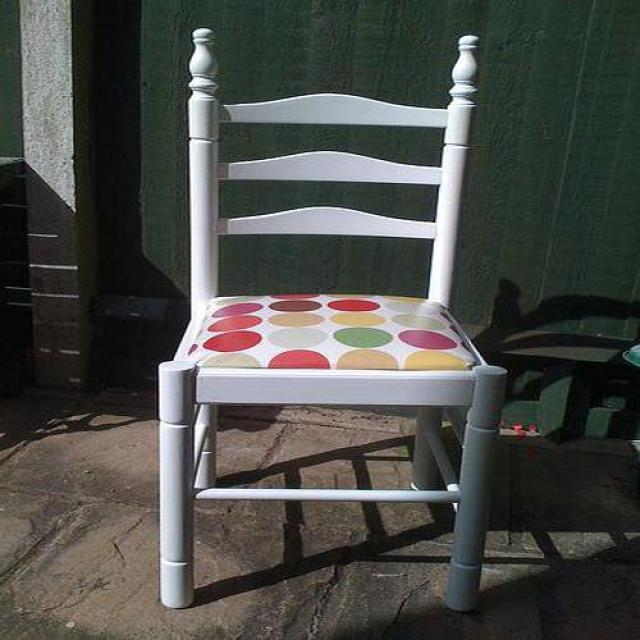chair: (157, 28, 508, 613)
